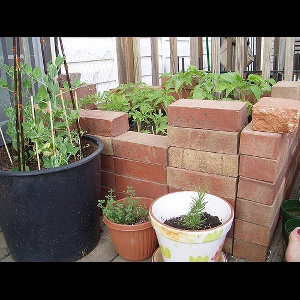flowerpot: (1, 130, 104, 263), (150, 190, 235, 263), (103, 196, 168, 262)
